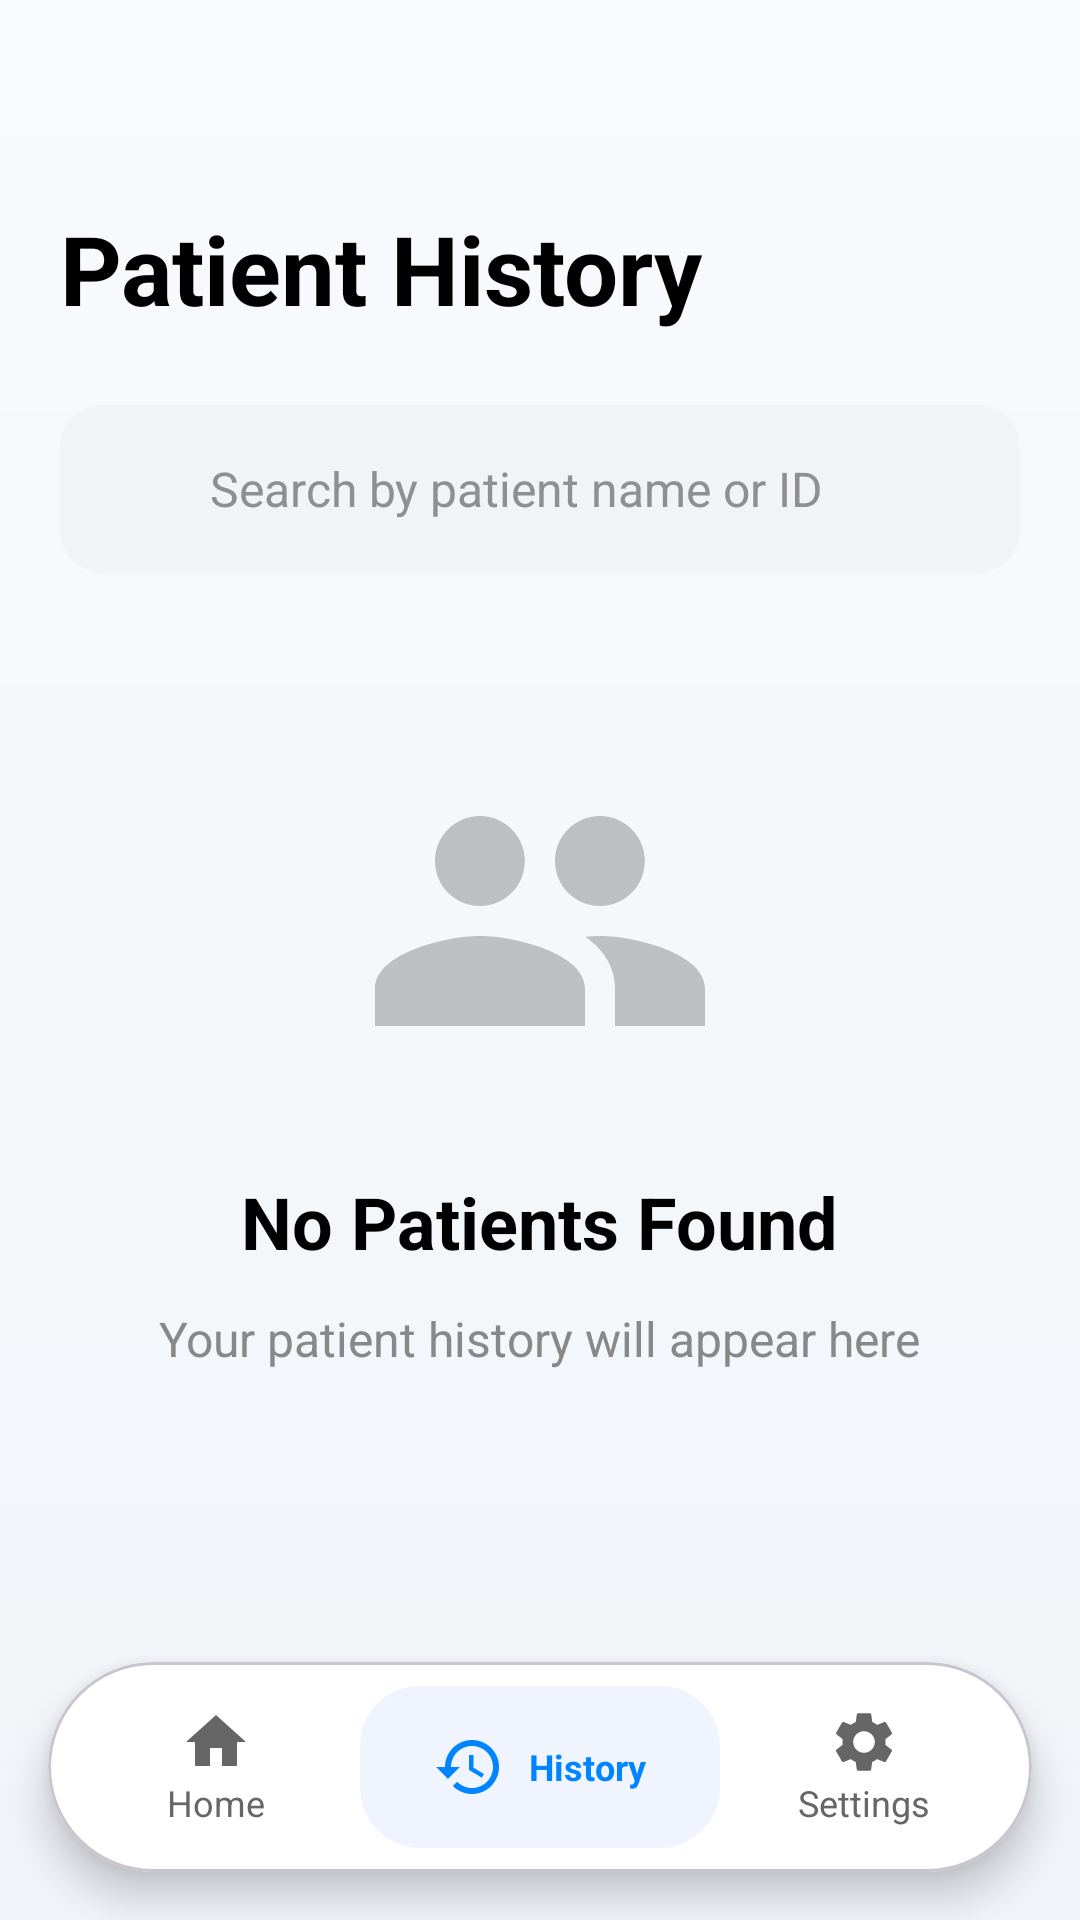

Screen size 1080w x 1920h. Icon name, then its box in pixels as (x1, y1, x2, y2):
group records: (375, 816, 705, 1026)
